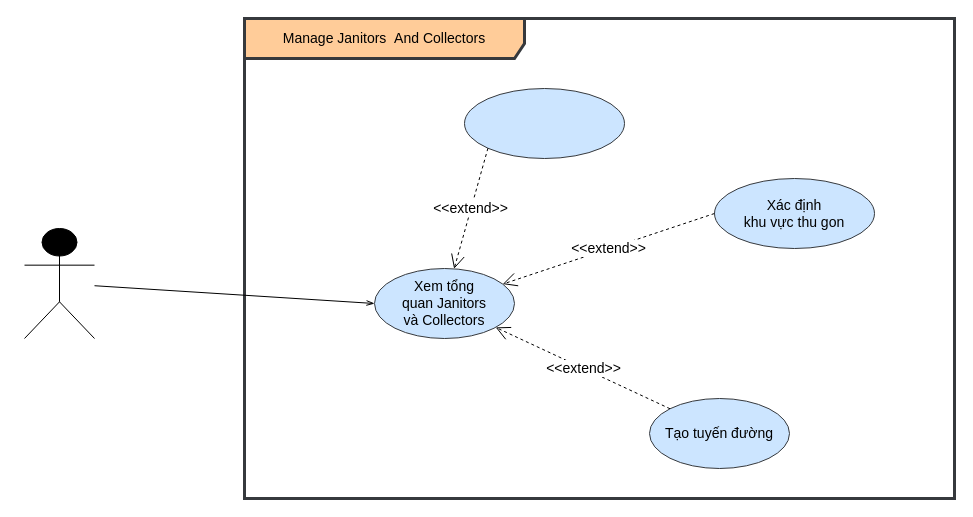
This 973x517 diagram has some shape labels left out. Each missing label, with the centre of its shape:
"Admin ( Back Officer )" belongs at (x=59, y=283).
"Chi tiết thông tin, lịch làm việc" belongs at (x=544, y=123).
